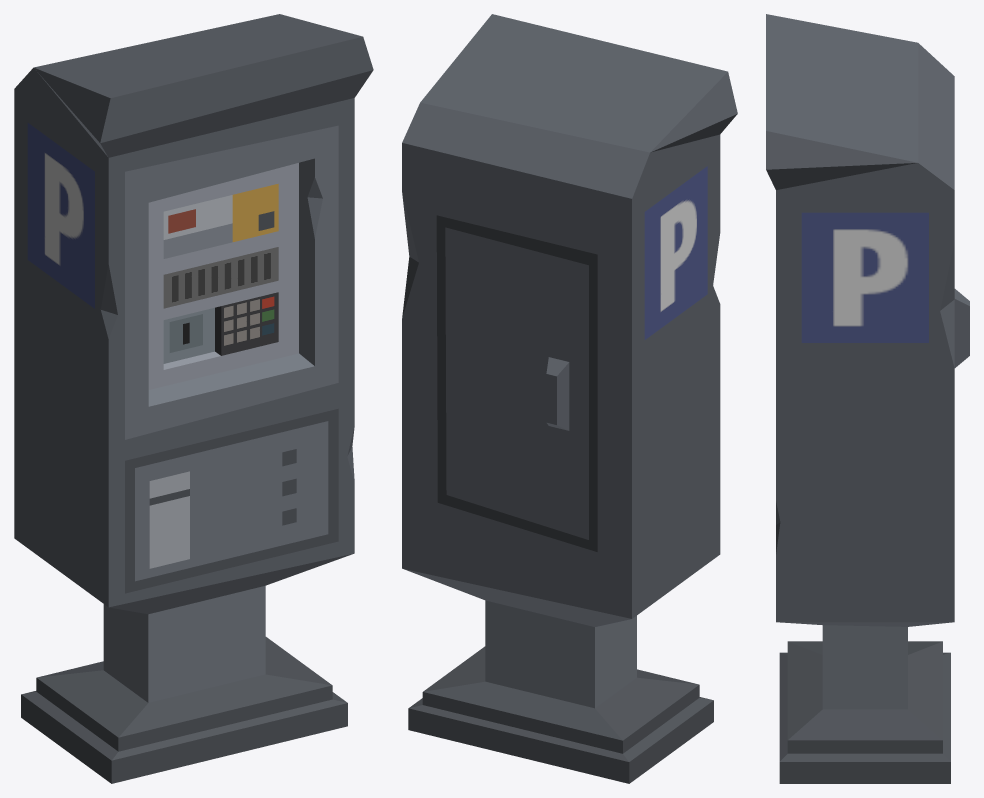
Rendered from ParkingMeter.fbx.
3 views of the same model, side by side, from view 1: azimuth 30°, elevation 25°; view 2: azimuth 150°, elevation 25°; view 3: azimuth 270°, elevation 25° (orthographic). The views are drawn at different scales.
Visible parts, largest first — view 1: ParkingMeter; view 2: ParkingMeter; view 3: ParkingMeter.
Part boxes in pixels (x1=…): ParkingMeter: x1=14, y1=14, x2=373, y2=783; ParkingMeter: x1=402, y1=14, x2=737, y2=783; ParkingMeter: x1=766, y1=14, x2=969, y2=783.
Bounding box in the file's own units: 62.77 × 152 × 42.76.
1 material, 1 textured.
